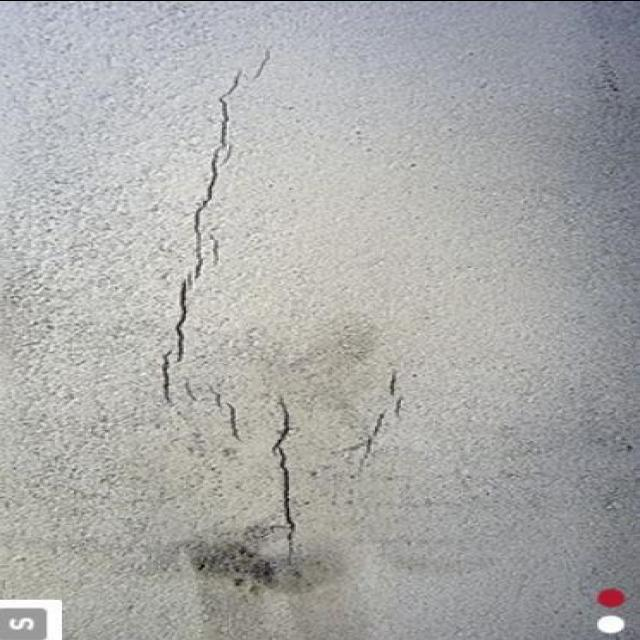Crack: (157, 47, 276, 443), (268, 395, 299, 569), (359, 368, 408, 458)
